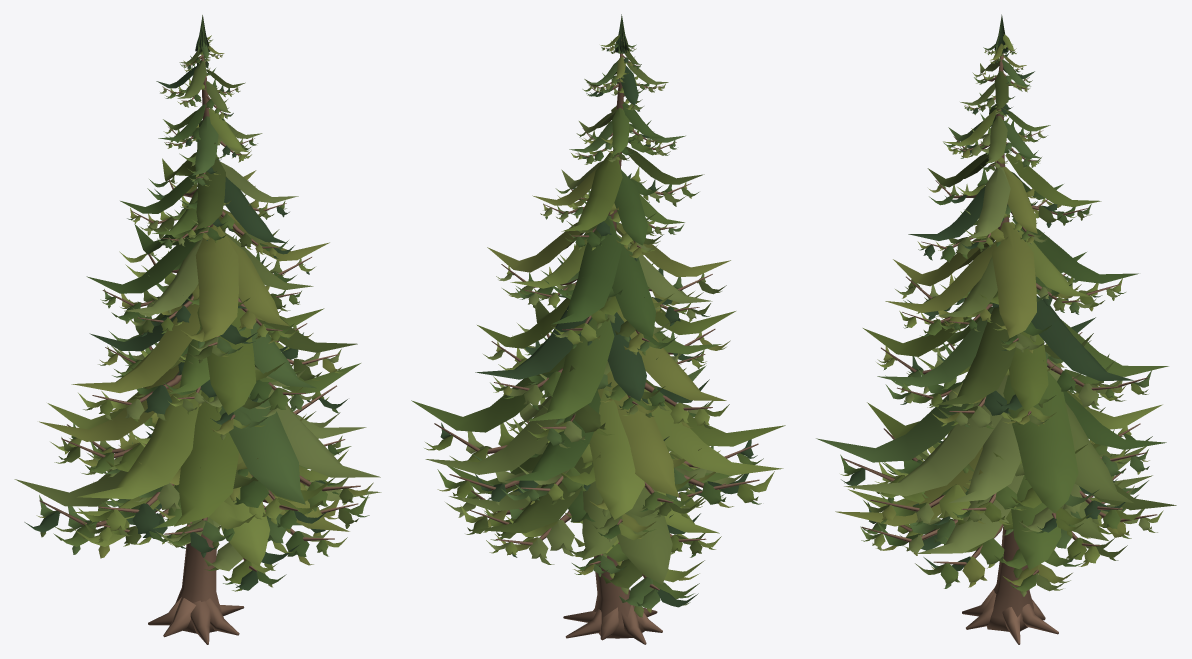
Rendered from wsc-prop-046-conifer-tree.glb.
3 renders of one model, left to right at view 1: azimuth 30°, elevation 25°; view 2: azimuth 150°, elevation 25°; view 3: azimuth 270°, elevation 25°, orthographic.
Visible parts, largest first — view 1: 02 Living evergreen sprays, 01 Fluted trunk and branch wood; view 2: 02 Living evergreen sprays, 01 Fluted trunk and branch wood; view 3: 02 Living evergreen sprays, 01 Fluted trunk and branch wood.
Part boxes in pixels (x1=…): 02 Living evergreen sprays: x1=14, y1=15, x2=381, y2=591; 01 Fluted trunk and branch wood: x1=39, y1=39, x2=360, y2=644; 02 Living evergreen sprays: x1=411, y1=14, x2=785, y2=617; 01 Fluted trunk and branch wood: x1=434, y1=39, x2=759, y2=644; 02 Living evergreen sprays: x1=816, y1=14, x2=1176, y2=596; 01 Fluted trunk and branch wood: x1=843, y1=47, x2=1157, y2=644.
Bounding box in the file's own units: 3.44 × 6.11 × 3.3.
